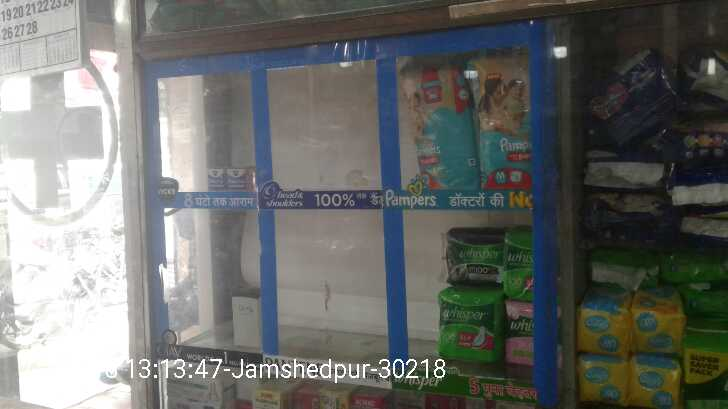pharmacy: (404, 51, 469, 199), (473, 57, 533, 192), (437, 292, 499, 358), (446, 224, 501, 285), (504, 226, 532, 301), (506, 302, 532, 366), (207, 167, 247, 195)
